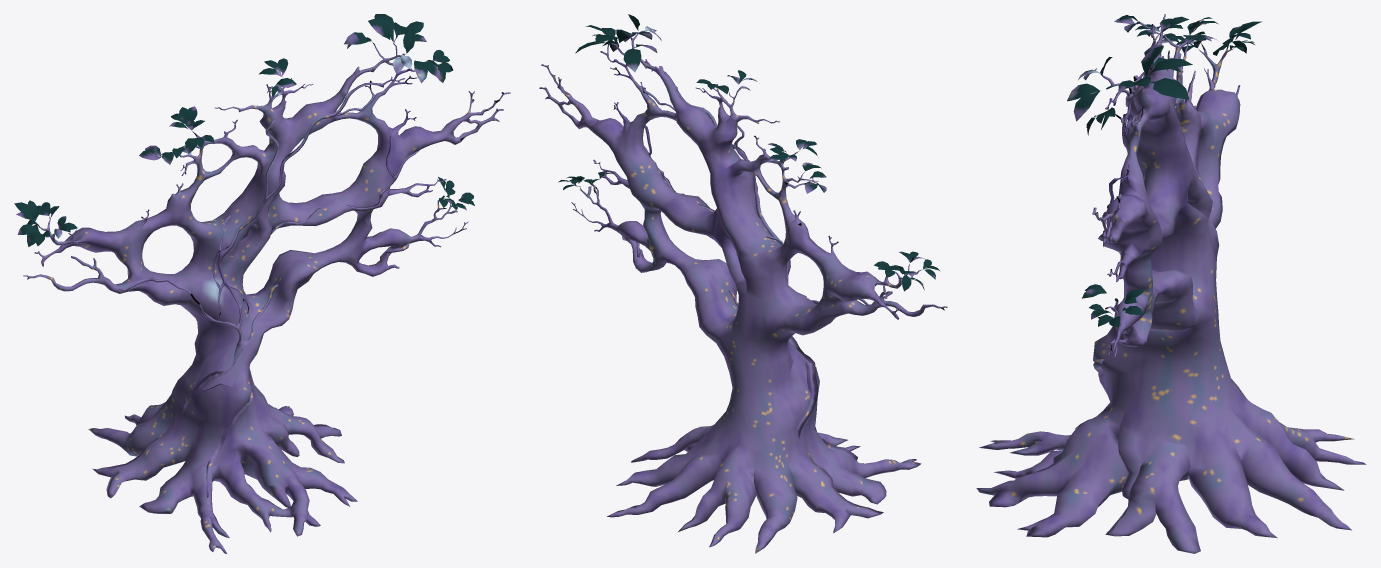
File: leftperpurtreefive.glb
The picture shows the model from 3 angles, left to right: view 1: azimuth 30°, elevation 25°; view 2: azimuth 150°, elevation 25°; view 3: azimuth 270°, elevation 25°; orthographic projection. The views are drawn at different scales.
Parts seen in each view (by area): view 1: Tree__filigree; view 2: Tree__filigree; view 3: Tree__filigree.
Boxes of the visible parts, x1,y1,x2,y2 form: Tree__filigree: (14, 14, 510, 553); Tree__filigree: (539, 14, 947, 553); Tree__filigree: (976, 14, 1366, 553).
Size of the model in its own units: 5.92 by 5.43 by 3.59.
Materials: 1 (1 with a texture image).
